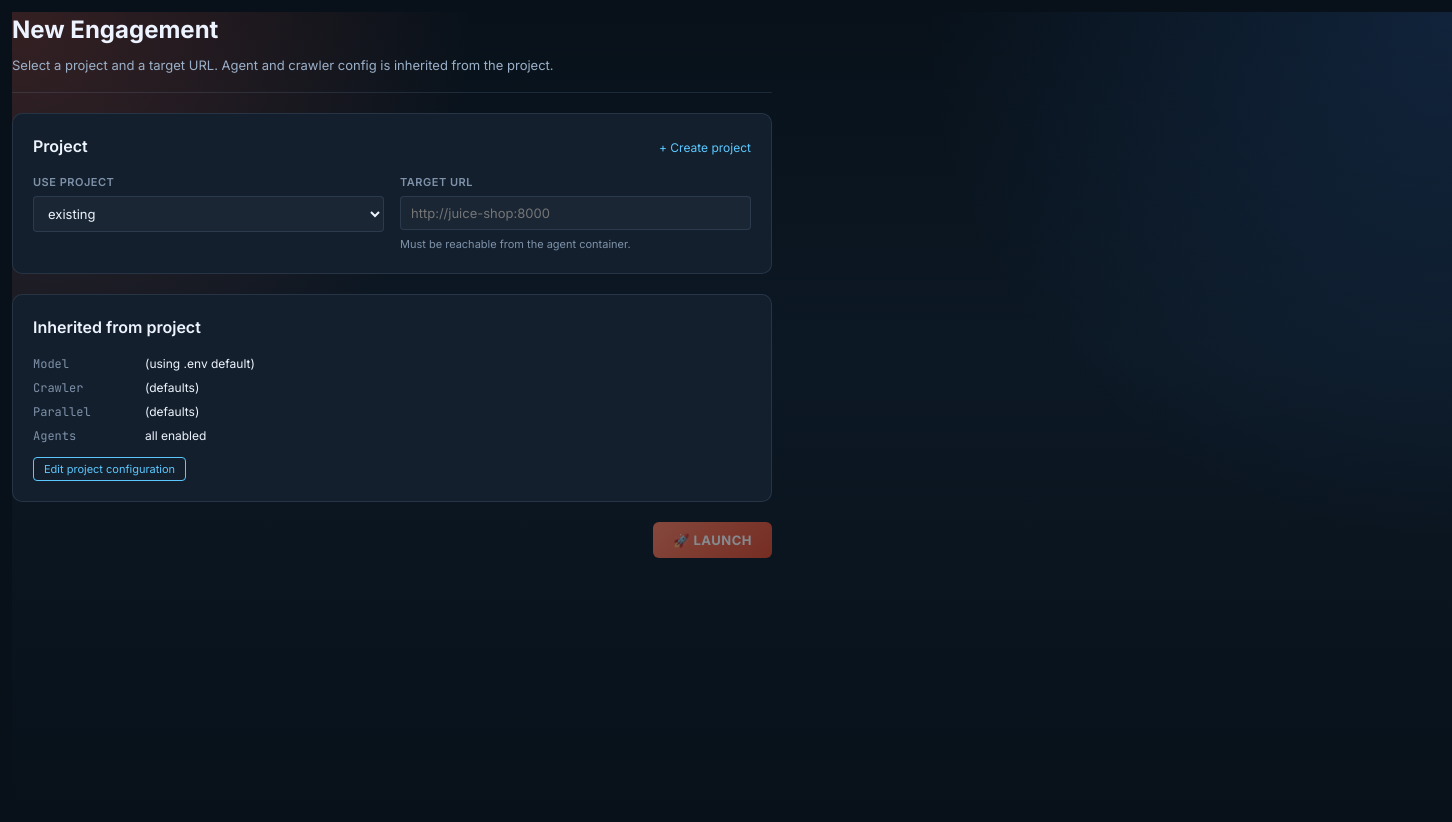
NewRunForm › toggles create-project block visibility with the link
Expected: the field with placeholder "e.g. juice-shop-lab" is not shown
Click the button "+ Create project" at x=705, y=147, box [659, 140, 751, 154]
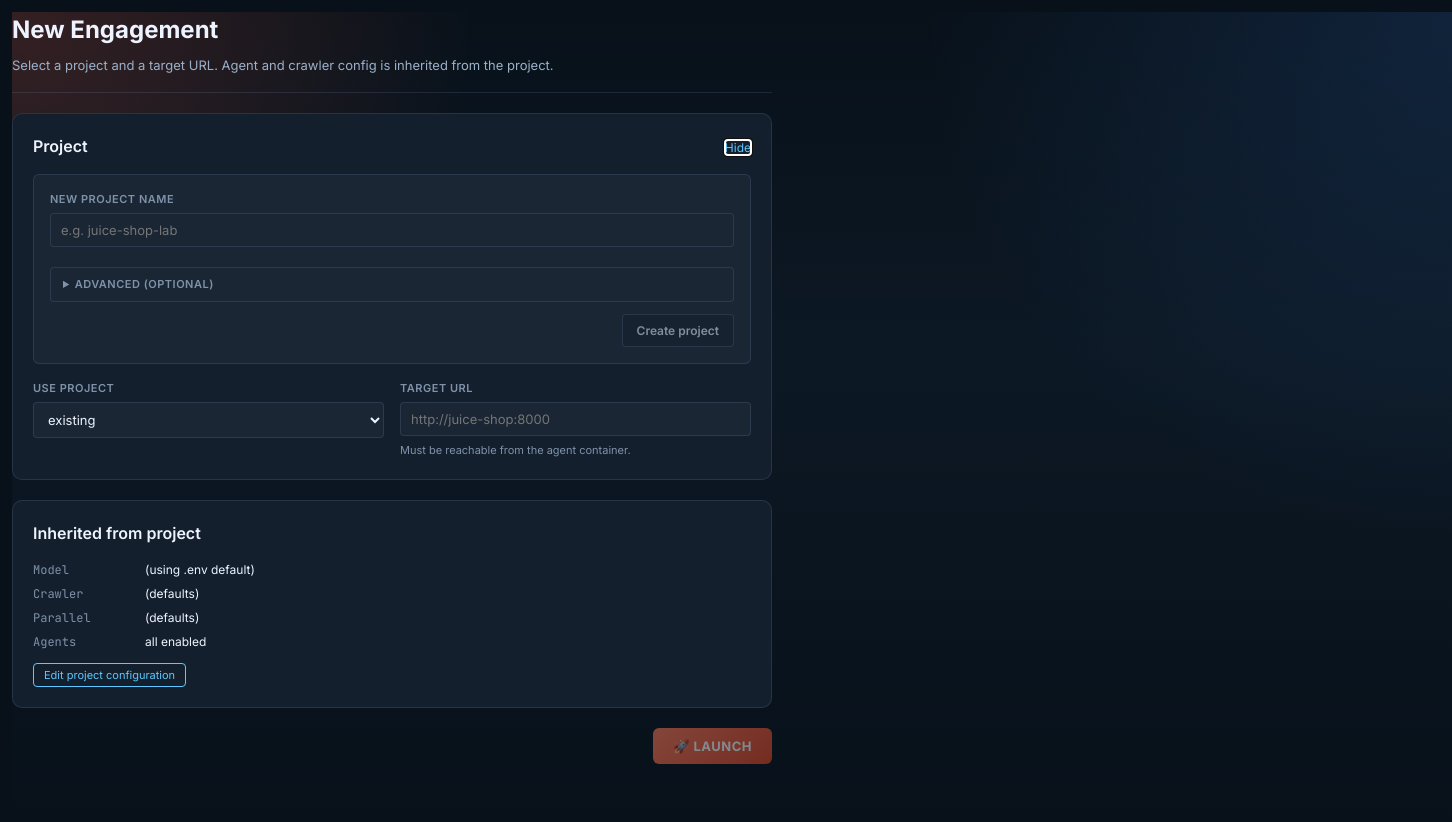
Now the field with placeholder "e.g. juice-shop-lab" is shown, box [50, 213, 734, 247]
